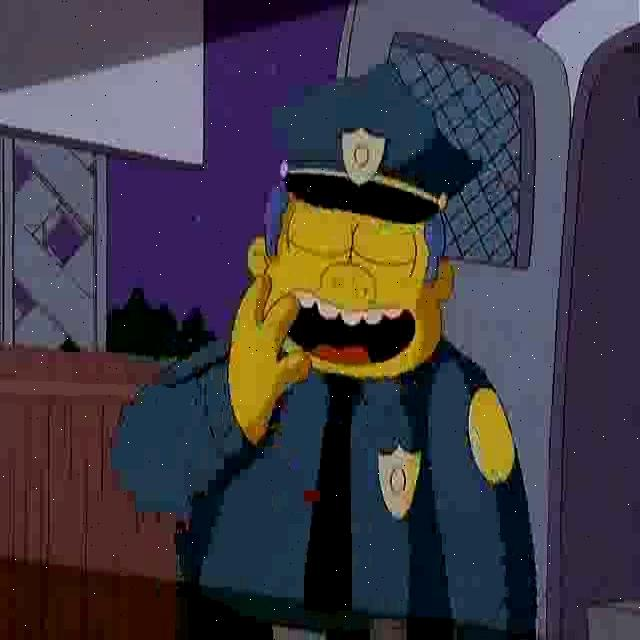Chief Wiggam: (244, 53, 488, 390)
